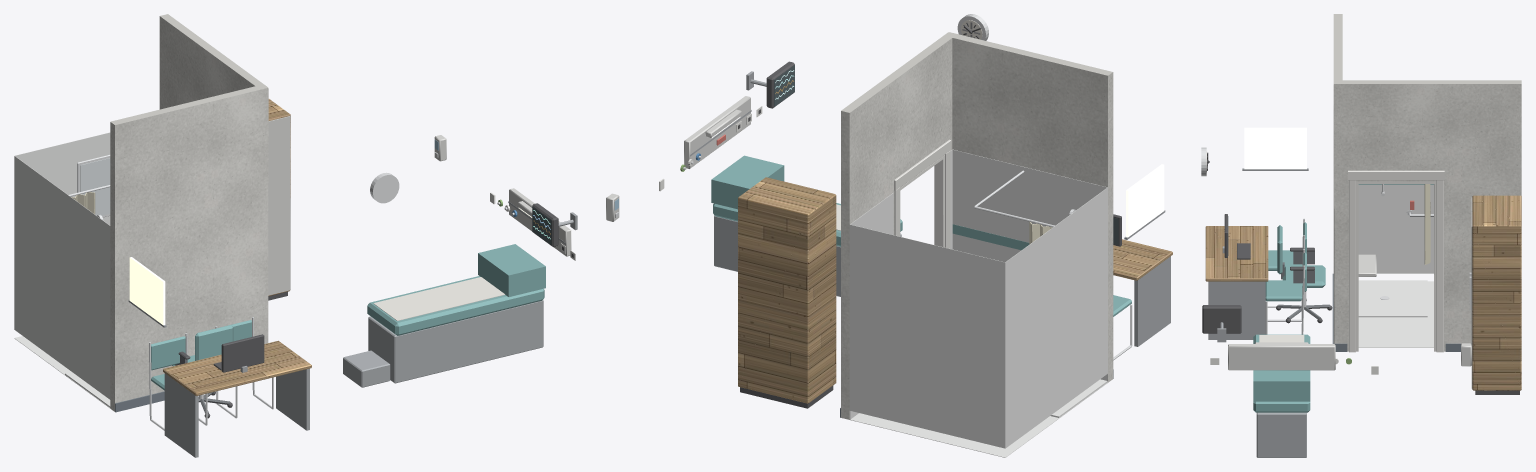
The model's file is room_exam_482x358.glb.
The picture shows the model from 3 angles, left to right: view 1: azimuth 30°, elevation 25°; view 2: azimuth 150°, elevation 25°; view 3: azimuth 270°, elevation 25°; orthographic projection. The views are drawn at different scales.
Visible parts, largest first — view 1: room_exam_482x358_plaster, room_exam_482x358_tile_c, room_exam_482x358_steel, room_exam_482x358_vinyl_t, room_exam_482x358_cart_w, room_exam_482x358_laminate, room_exam_482x358_paper, room_exam_482x358_chrome, room_exam_482x358_dark, room_exam_482x358_lamp_glass, room_exam_482x358_mirror; view 2: room_exam_482x358_tile_c, room_exam_482x358_plaster, room_exam_482x358_laminate, room_exam_482x358_steel, room_exam_482x358_vinyl_t, room_exam_482x358_frame, room_exam_482x358_cart_w, room_exam_482x358_lamp_glass, room_exam_482x358_dark, room_exam_482x358_chrome, room_exam_482x358_screen; view 3: room_exam_482x358_plaster, room_exam_482x358_laminate, room_exam_482x358_tile_c, room_exam_482x358_steel, room_exam_482x358_vinyl_t, room_exam_482x358_frame, room_exam_482x358_cart_w, room_exam_482x358_lamp_glass, room_exam_482x358_dark, room_exam_482x358_chrome, room_exam_482x358_steel_d, room_exam_482x358_curtain2 (+2 smaller).
Boxes of the visible parts, <box> form: room_exam_482x358_plaster: <box>110,14,268,411</box>; room_exam_482x358_tile_c: <box>14,132,110,408</box>; room_exam_482x358_steel: <box>128,201,577,457</box>; room_exam_482x358_vinyl_t: <box>151,244,545,390</box>; room_exam_482x358_cart_w: <box>268,116,571,295</box>; room_exam_482x358_laminate: <box>163,99,311,395</box>; room_exam_482x358_paper: <box>373,277,505,320</box>; room_exam_482x358_chrome: <box>68,152,514,430</box>; room_exam_482x358_dark: <box>178,203,573,418</box>; room_exam_482x358_lamp_glass: <box>129,208,532,325</box>; room_exam_482x358_mirror: <box>80,158,110,215</box>; room_exam_482x358_tile_c: <box>849,149,1107,457</box>; room_exam_482x358_plaster: <box>841,32,1113,419</box>; room_exam_482x358_laminate: <box>738,177,1172,403</box>; room_exam_482x358_steel: <box>690,71,1170,346</box>; room_exam_482x358_vinyl_t: <box>711,155,1131,316</box>; room_exam_482x358_frame: <box>894,139,951,248</box>; room_exam_482x358_cart_w: <box>606,96,750,221</box>; room_exam_482x358_lamp_glass: <box>711,116,1164,237</box>; room_exam_482x358_dark: <box>738,22,1121,408</box>; room_exam_482x358_chrome: <box>615,14,1132,360</box>; room_exam_482x358_screen: <box>774,65,1118,244</box>; room_exam_482x358_plaster: <box>1333,14,1521,351</box>; room_exam_482x358_laminate: <box>1205,195,1521,390</box>; room_exam_482x358_tile_c: <box>1358,184,1433,347</box>; room_exam_482x358_steel: <box>1208,168,1308,457</box>; room_exam_482x358_vinyl_t: <box>1253,184,1433,412</box>; room_exam_482x358_frame: <box>1348,170,1444,352</box>; room_exam_482x358_cart_w: <box>1228,197,1472,388</box>; room_exam_482x358_lamp_glass: <box>1244,127,1306,169</box>; room_exam_482x358_dark: <box>1202,152,1519,394</box>; room_exam_482x358_chrome: <box>1201,147,1471,334</box>; room_exam_482x358_steel_d: <box>1278,251,1330,319</box>; room_exam_482x358_curtain2: <box>1424,184,1430,264</box>.
Size of the model in its own units: 4.82 by 3.31 by 3.58.
Materials: 26 (2 with a texture image).
